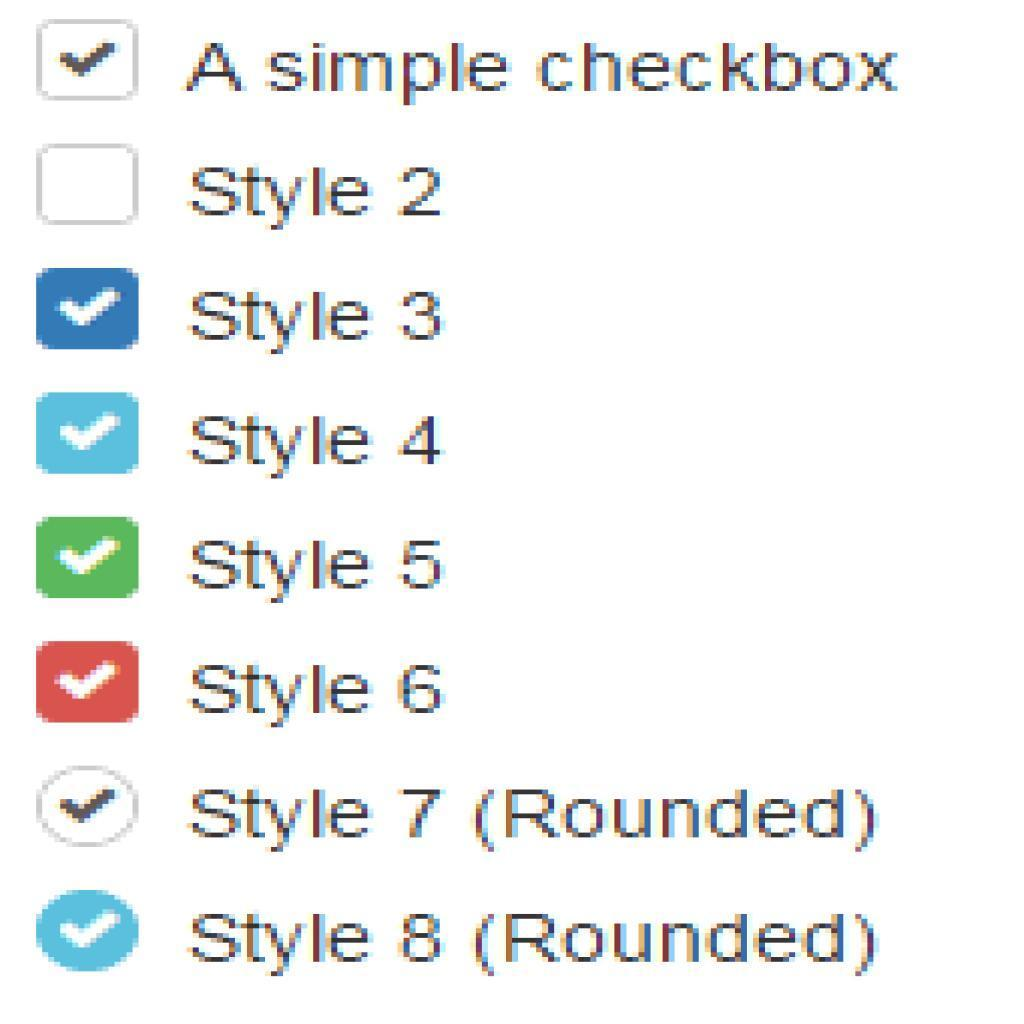checkbox: (37, 393, 141, 475), (36, 520, 141, 601), (35, 23, 142, 102), (39, 143, 139, 224), (38, 270, 140, 349), (39, 644, 141, 723)
radio: (33, 888, 142, 975), (36, 764, 142, 849)
